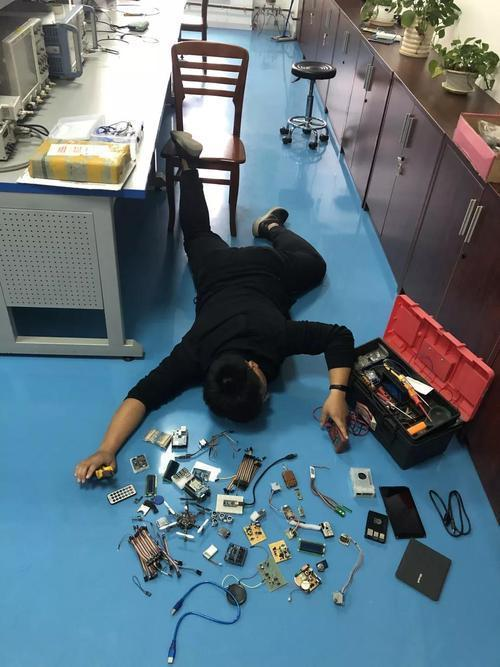Fall-Detected: (67, 123, 377, 476)
